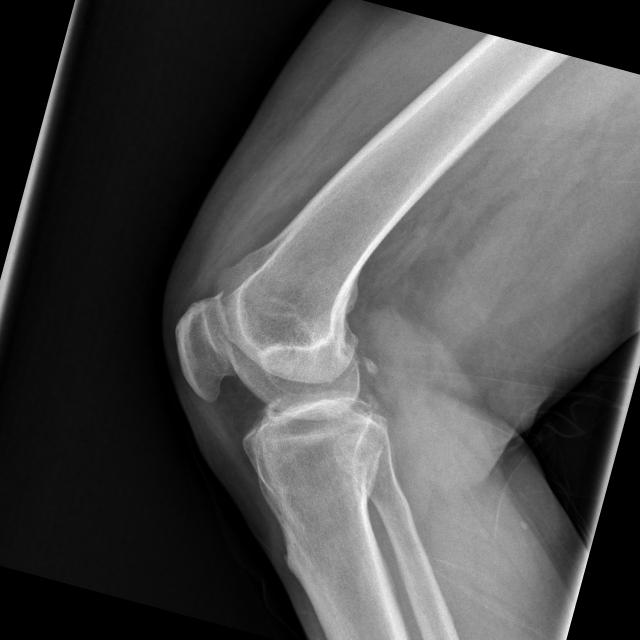Knee: (138, 264, 405, 504)
